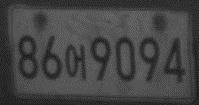0: (115, 37, 136, 81)
4: (162, 37, 189, 85)
6: (41, 34, 62, 79)
8: (16, 34, 38, 80)
9: (137, 36, 160, 82), (90, 35, 111, 82)
어: (64, 42, 87, 82)
